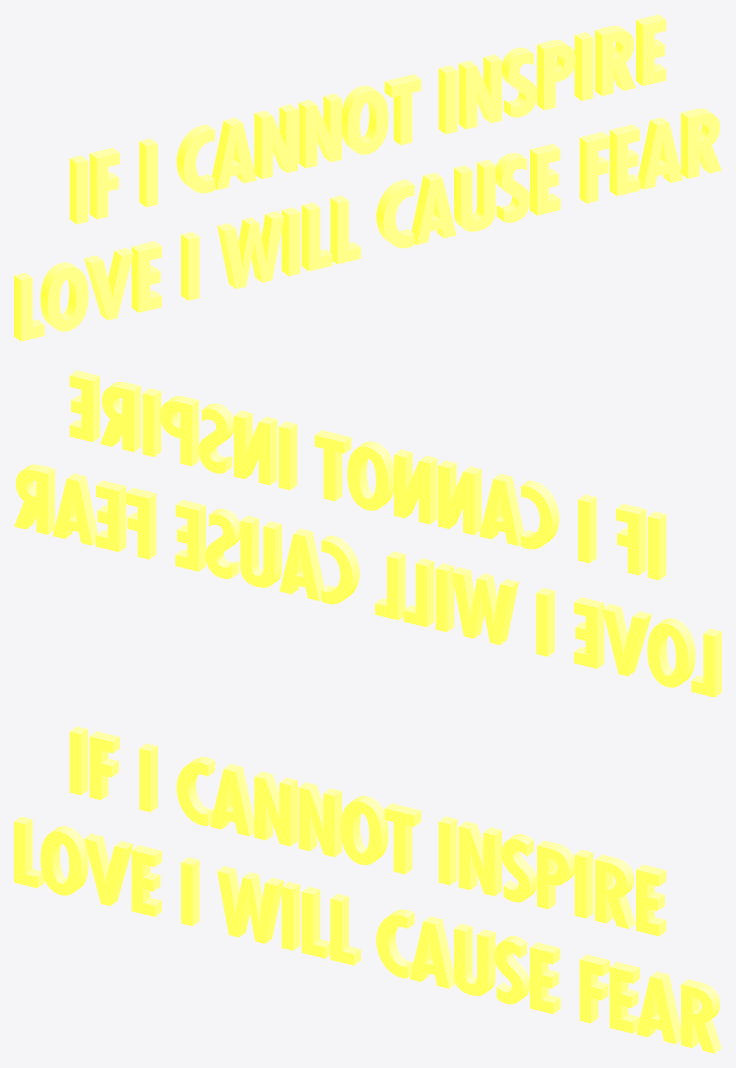
Rendered from fear.glb.
The picture shows the model from 3 angles, top to bottom: view 1: azimuth 30°, elevation 25°; view 2: azimuth 150°, elevation 25°; view 3: azimuth 330°, elevation 25°; orthographic projection.
Parts seen in each view (by area): view 1: typeMesh1; view 2: typeMesh1; view 3: typeMesh1.
Boxes of the visible parts, <box> form: typeMesh1: <box>14,14,721,341</box>; typeMesh1: <box>14,370,721,697</box>; typeMesh1: <box>14,726,721,1053</box>.
Bounding box in the file's own units: 21.21 × 4.82 × 0.3746.
